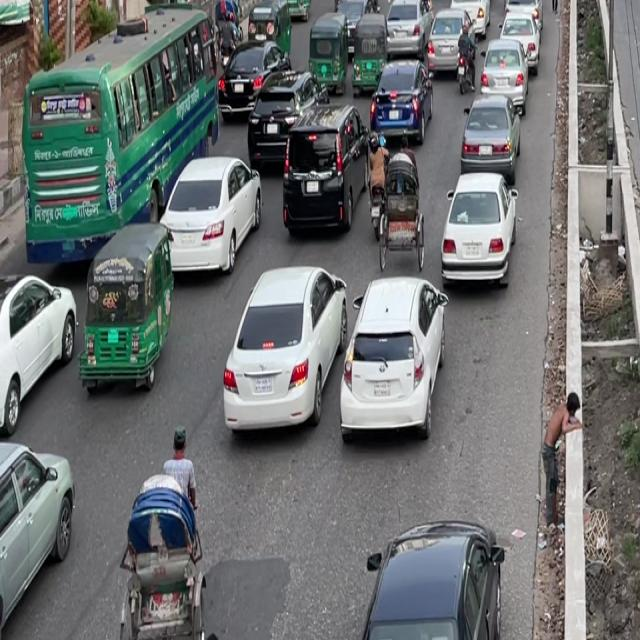car: (210, 249, 354, 452), (331, 259, 455, 454), (348, 499, 514, 640), (0, 428, 88, 636), (148, 140, 267, 291), (0, 256, 87, 450), (432, 159, 522, 301), (277, 107, 363, 248), (244, 60, 312, 172), (214, 40, 296, 126), (367, 55, 434, 153), (457, 86, 522, 186), (479, 34, 532, 114), (425, 8, 468, 87), (379, 0, 430, 60), (497, 0, 543, 65), (450, 0, 491, 41), (505, 0, 542, 5)
rickshaw: (66, 218, 179, 404), (305, 9, 350, 100), (351, 10, 390, 94), (430, 0, 459, 4)
